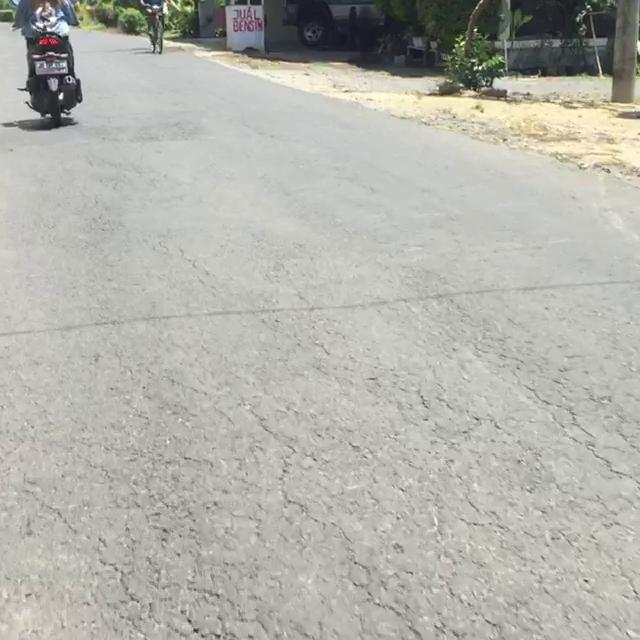retak_kulit_buaya: (11, 410, 301, 640), (340, 331, 640, 515)
